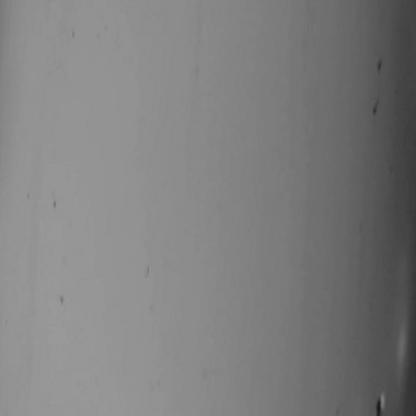kongdong: (359, 387, 386, 416)
